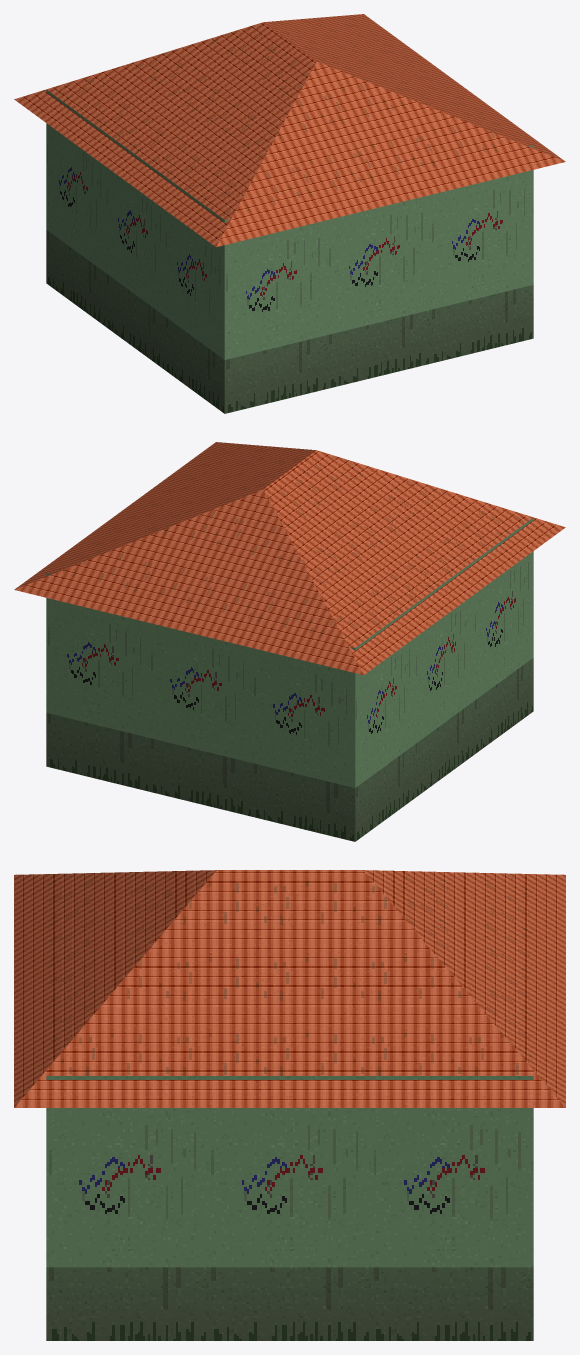
The model's file is bloco_5_verde_quatro_aguas.glb.
3 renders of one model, top to bottom at view 1: azimuth 30°, elevation 25°; view 2: azimuth 150°, elevation 25°; view 3: azimuth 270°, elevation 25°, orthographic. The views are drawn at different scales.
Parts seen in each view (by area): view 1: paredes-col, telhado; view 2: paredes-col, telhado; view 3: telhado, paredes-col.
Part boxes in pixels (x1,y1,x2,y2): paredes-col: [46, 90, 533, 413]; telhado: [14, 14, 565, 247]; paredes-col: [46, 518, 533, 841]; telhado: [14, 442, 565, 675]; telhado: [14, 870, 565, 1107]; paredes-col: [46, 1076, 533, 1340].
Size of the model in its own units: 6.8 by 5 by 6.8.
Materials: 3 (3 with a texture image).
